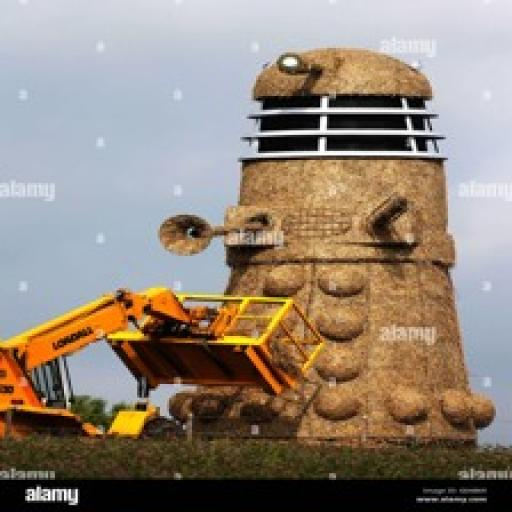dalek: (147, 46, 493, 449)
